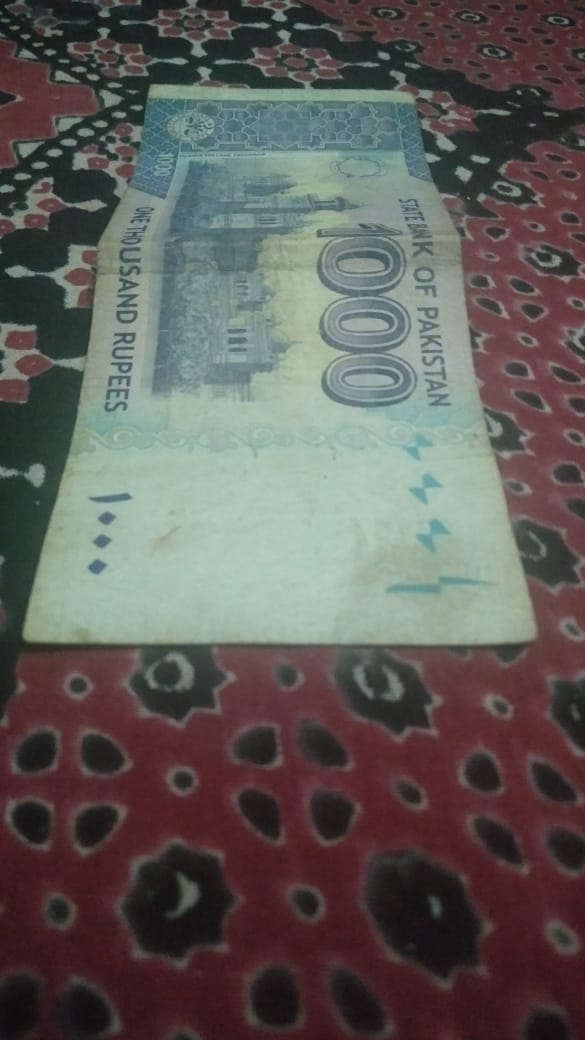1000 rupee: (23, 73, 534, 721)
